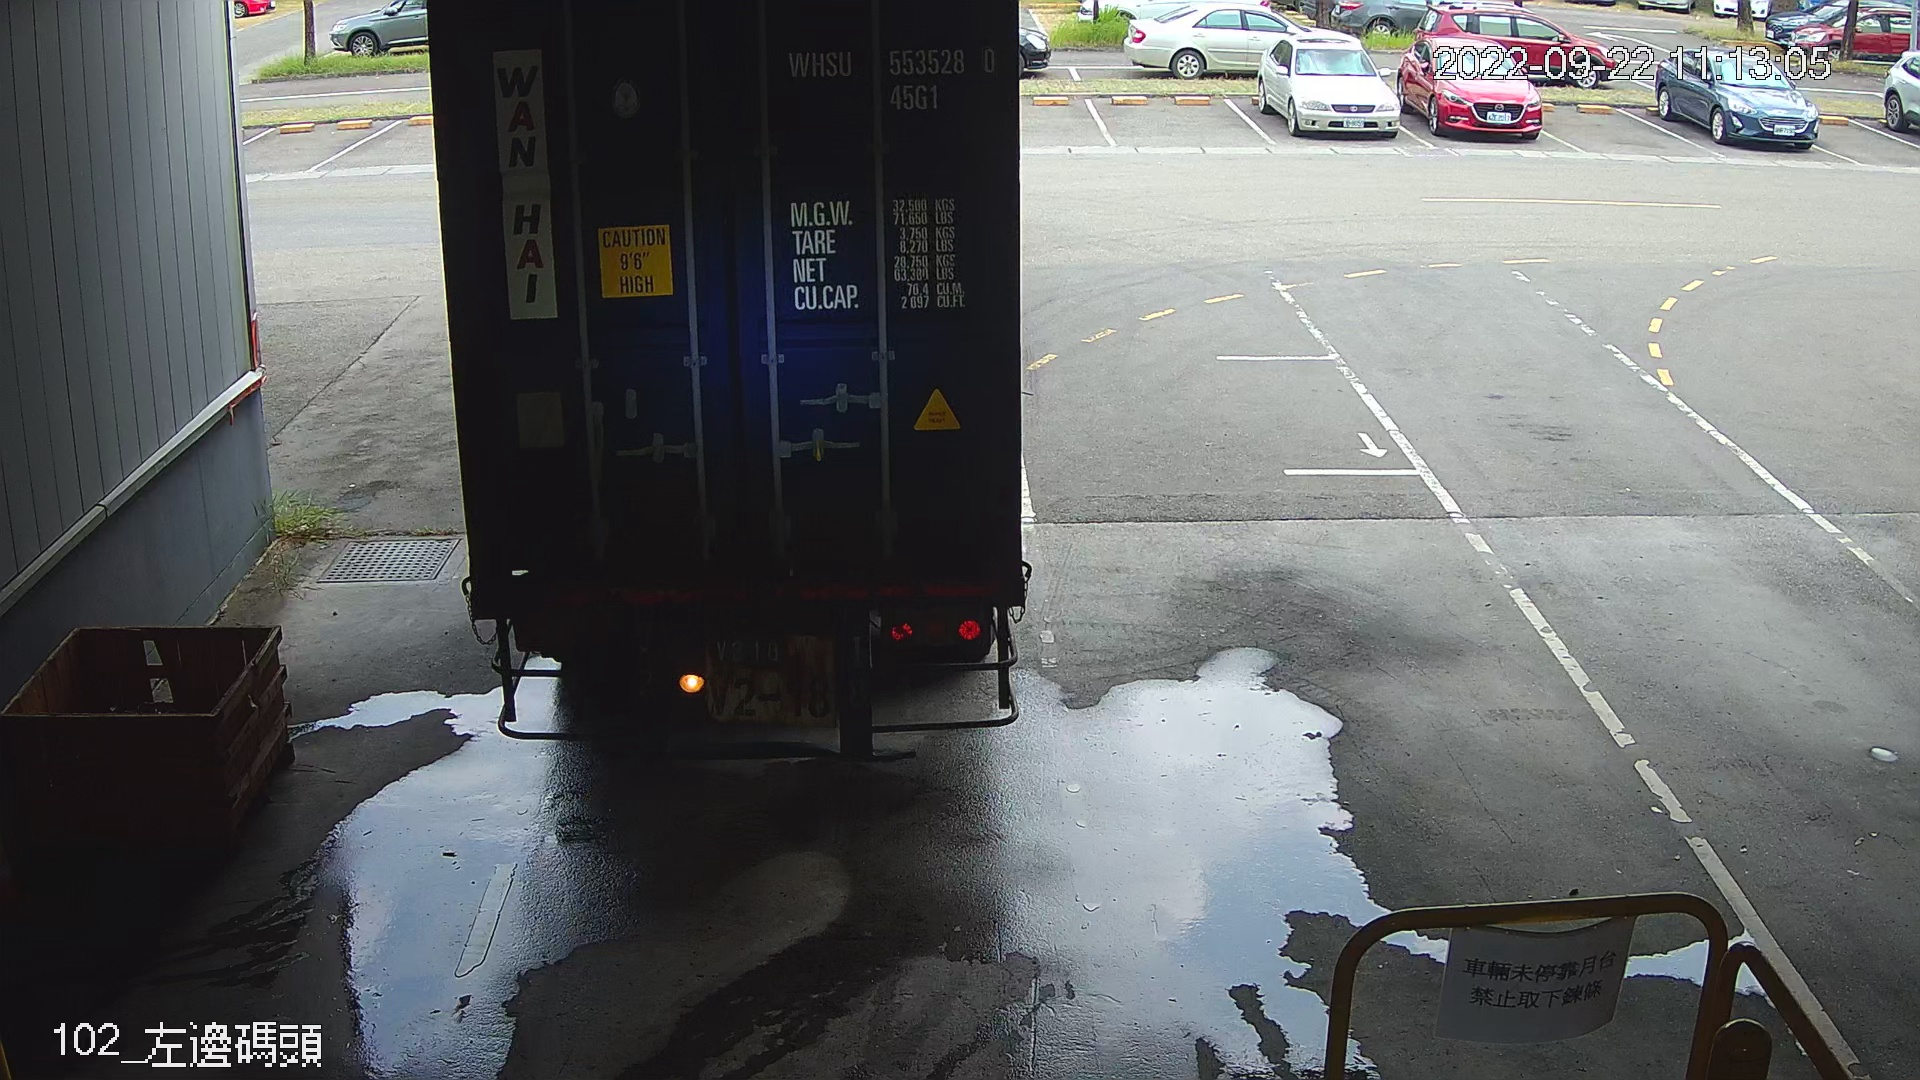container: (778, 38, 1006, 123)
